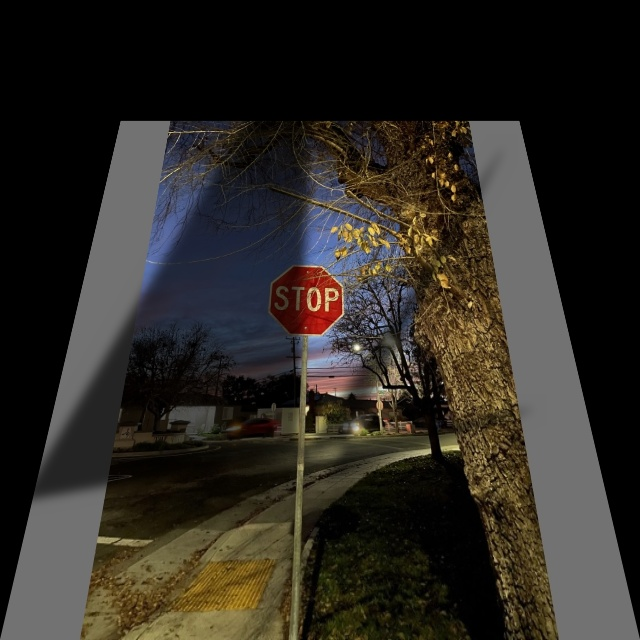Stop: (266, 265, 345, 336)
